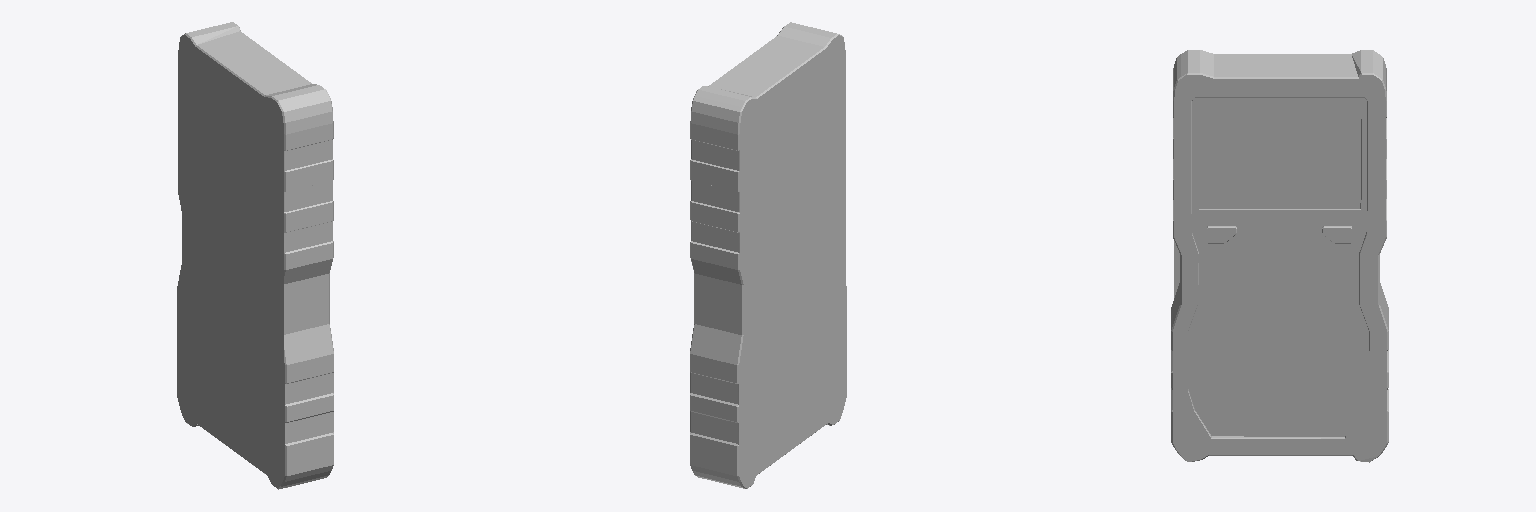
The model's file is MultiMeter+.obj.
The picture shows the model from 3 angles: view 1: azimuth 30°, elevation 25°; view 2: azimuth 150°, elevation 25°; view 3: azimuth 270°, elevation 25°; orthographic projection.
Visible parts, largest first — view 1: Multimeter_Cube.001_Cube.002; view 2: Multimeter_Cube.001_Cube.002; view 3: Multimeter_Cube.001_Cube.002.
Boxes of the visible parts, <box> form: Multimeter_Cube.001_Cube.002: <box>177,22,333,489</box>; Multimeter_Cube.001_Cube.002: <box>690,22,846,488</box>; Multimeter_Cube.001_Cube.002: <box>1171,50,1388,462</box>.
Bounding box in the file's own units: 0.0158 × 0.1179 × 0.0598.